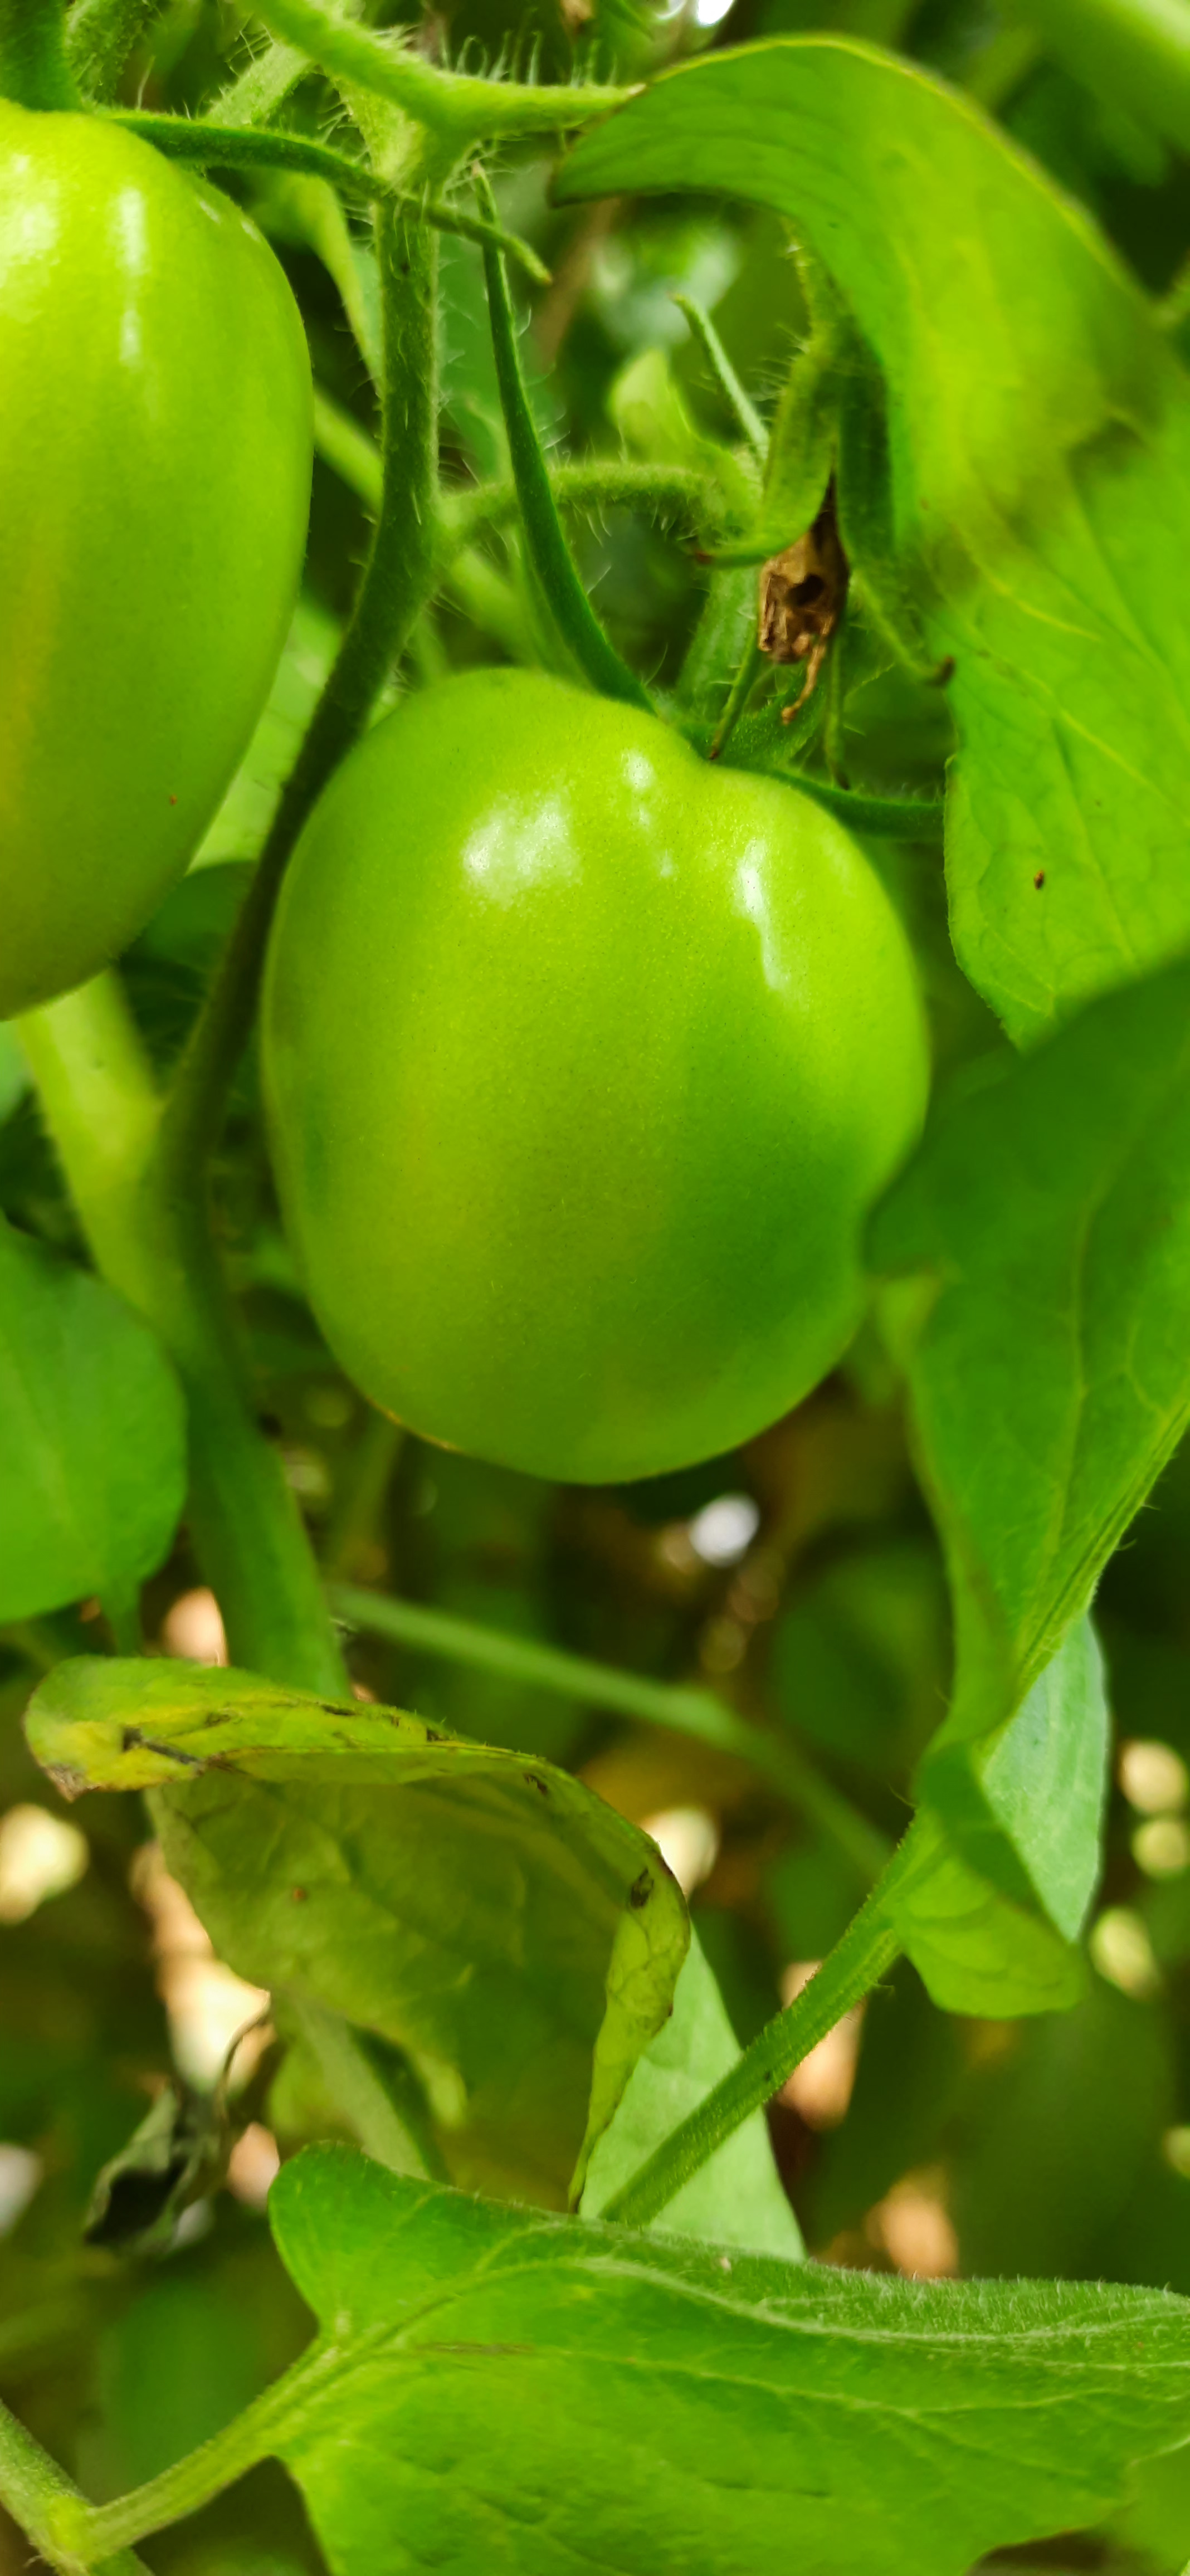raw_tomato: (217, 496, 1098, 1659)
